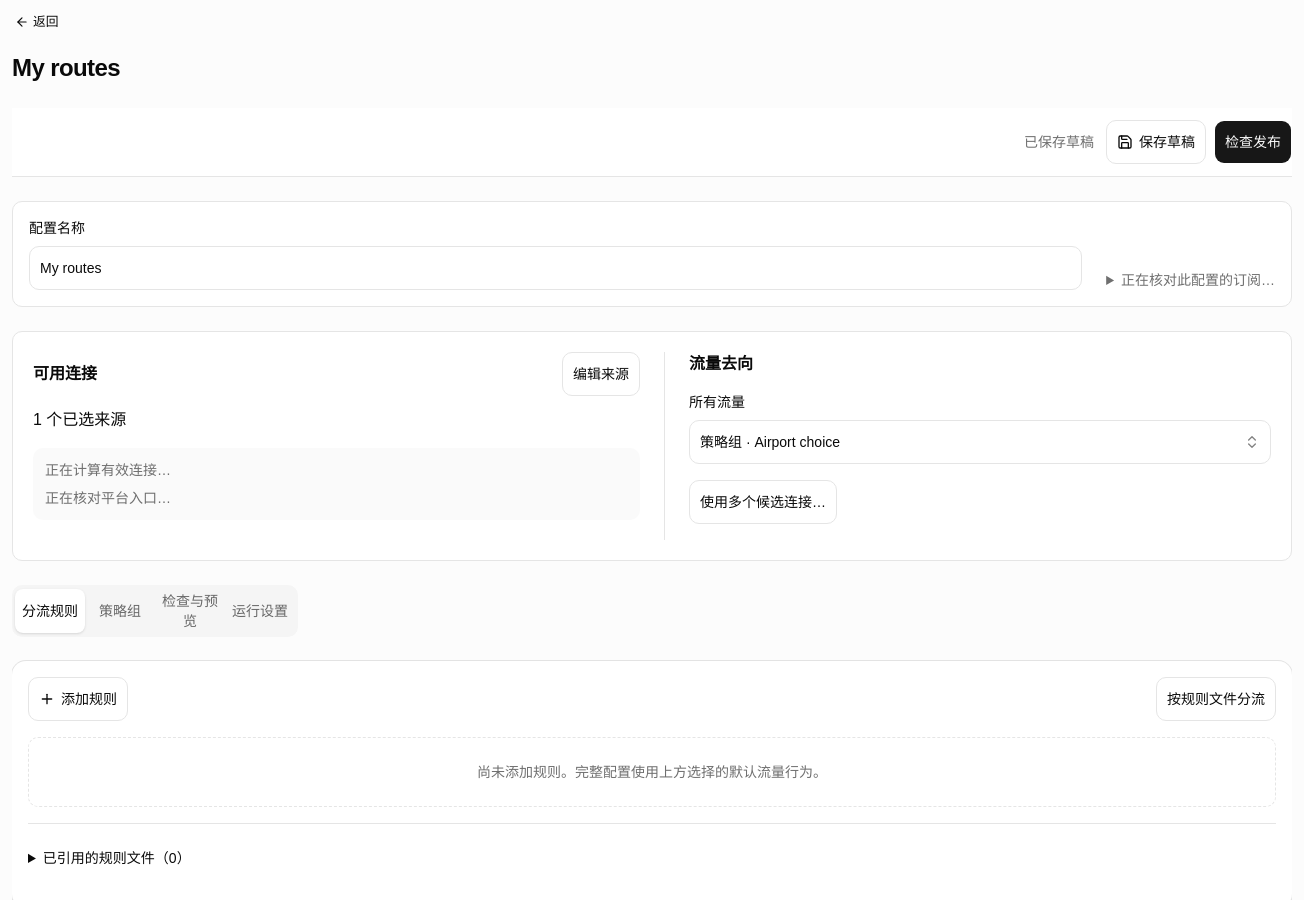
treats legacy null as off without rewriting it on open
Press the mouse on the tab "策略组" at (120, 611), box [85, 589, 155, 633]
(page scrolled)
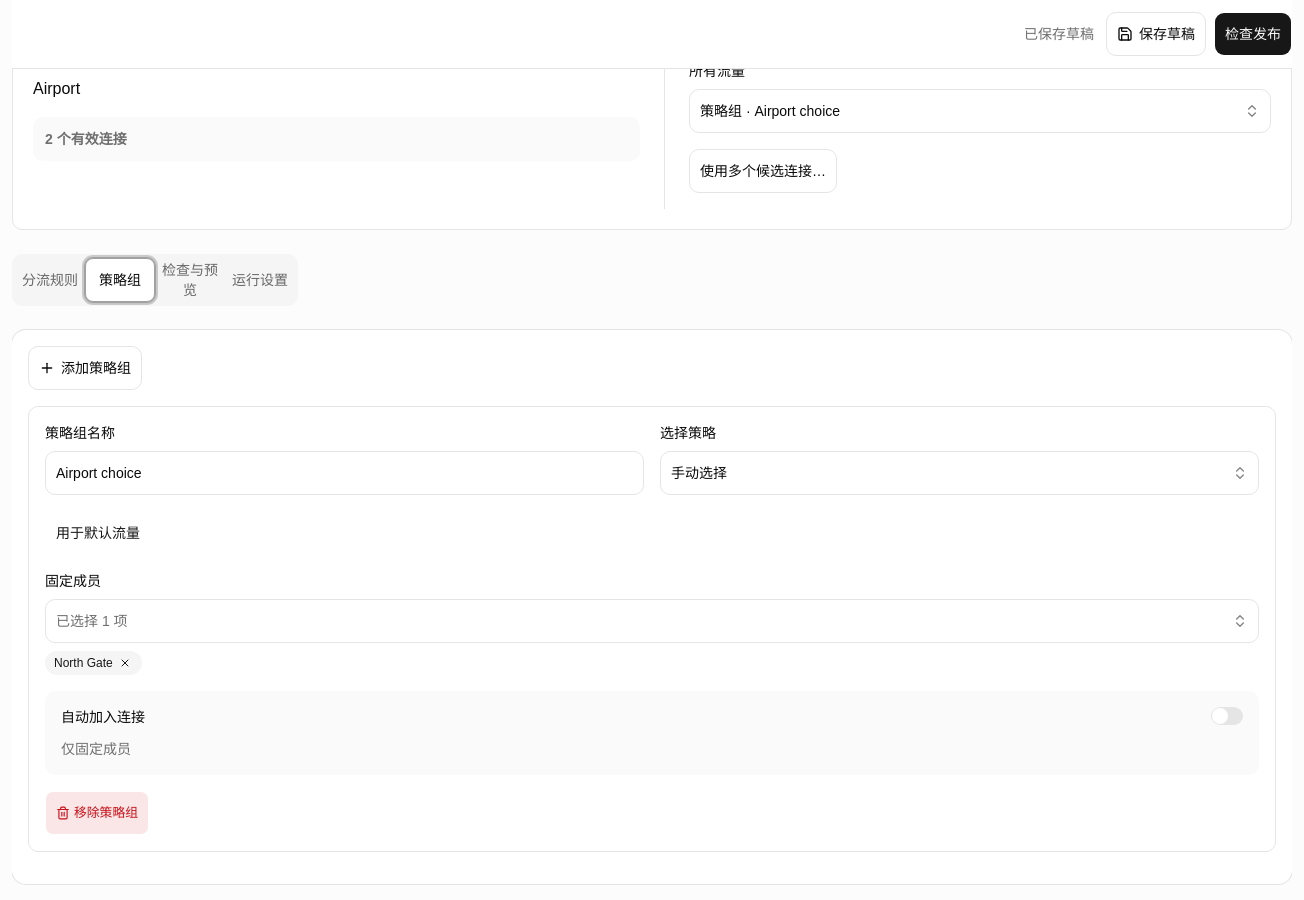
Expected: the text "2 个有效连接" is shown, [45, 131, 127, 147]
Expected: the text "仅固定成员" is shown, [61, 741, 131, 757]
